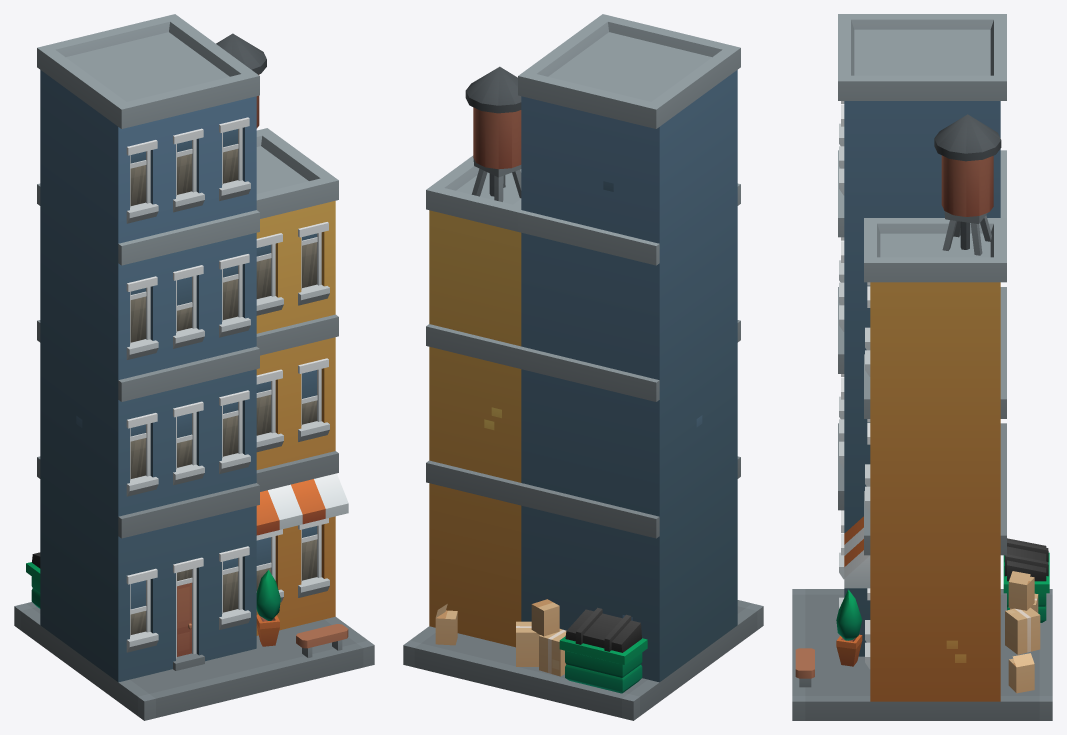
Rendered from residential-B2.glb.
3 renders of one model, left to right at view 1: azimuth 30°, elevation 25°; view 2: azimuth 150°, elevation 25°; view 3: azimuth 270°, elevation 25°, orthographic.
Parts seen in each view (by area): view 1: building_H; view 2: building_H; view 3: building_H.
Boxes of the visible parts, x1=… form: building_H: x1=14, y1=14, x2=374, y2=720; building_H: x1=403, y1=14, x2=763, y2=720; building_H: x1=792, y1=14, x2=1052, y2=720.
Bounding box in the file's own units: 0.9432 × 2.32 × 0.92.
1 material, 1 textured.
